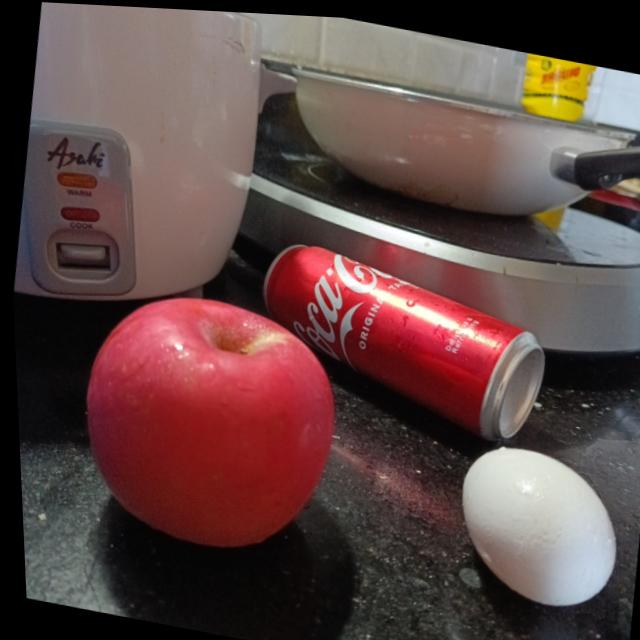apple: (61, 274, 348, 566)
coke: (243, 231, 557, 441)
egg: (445, 433, 622, 607)
